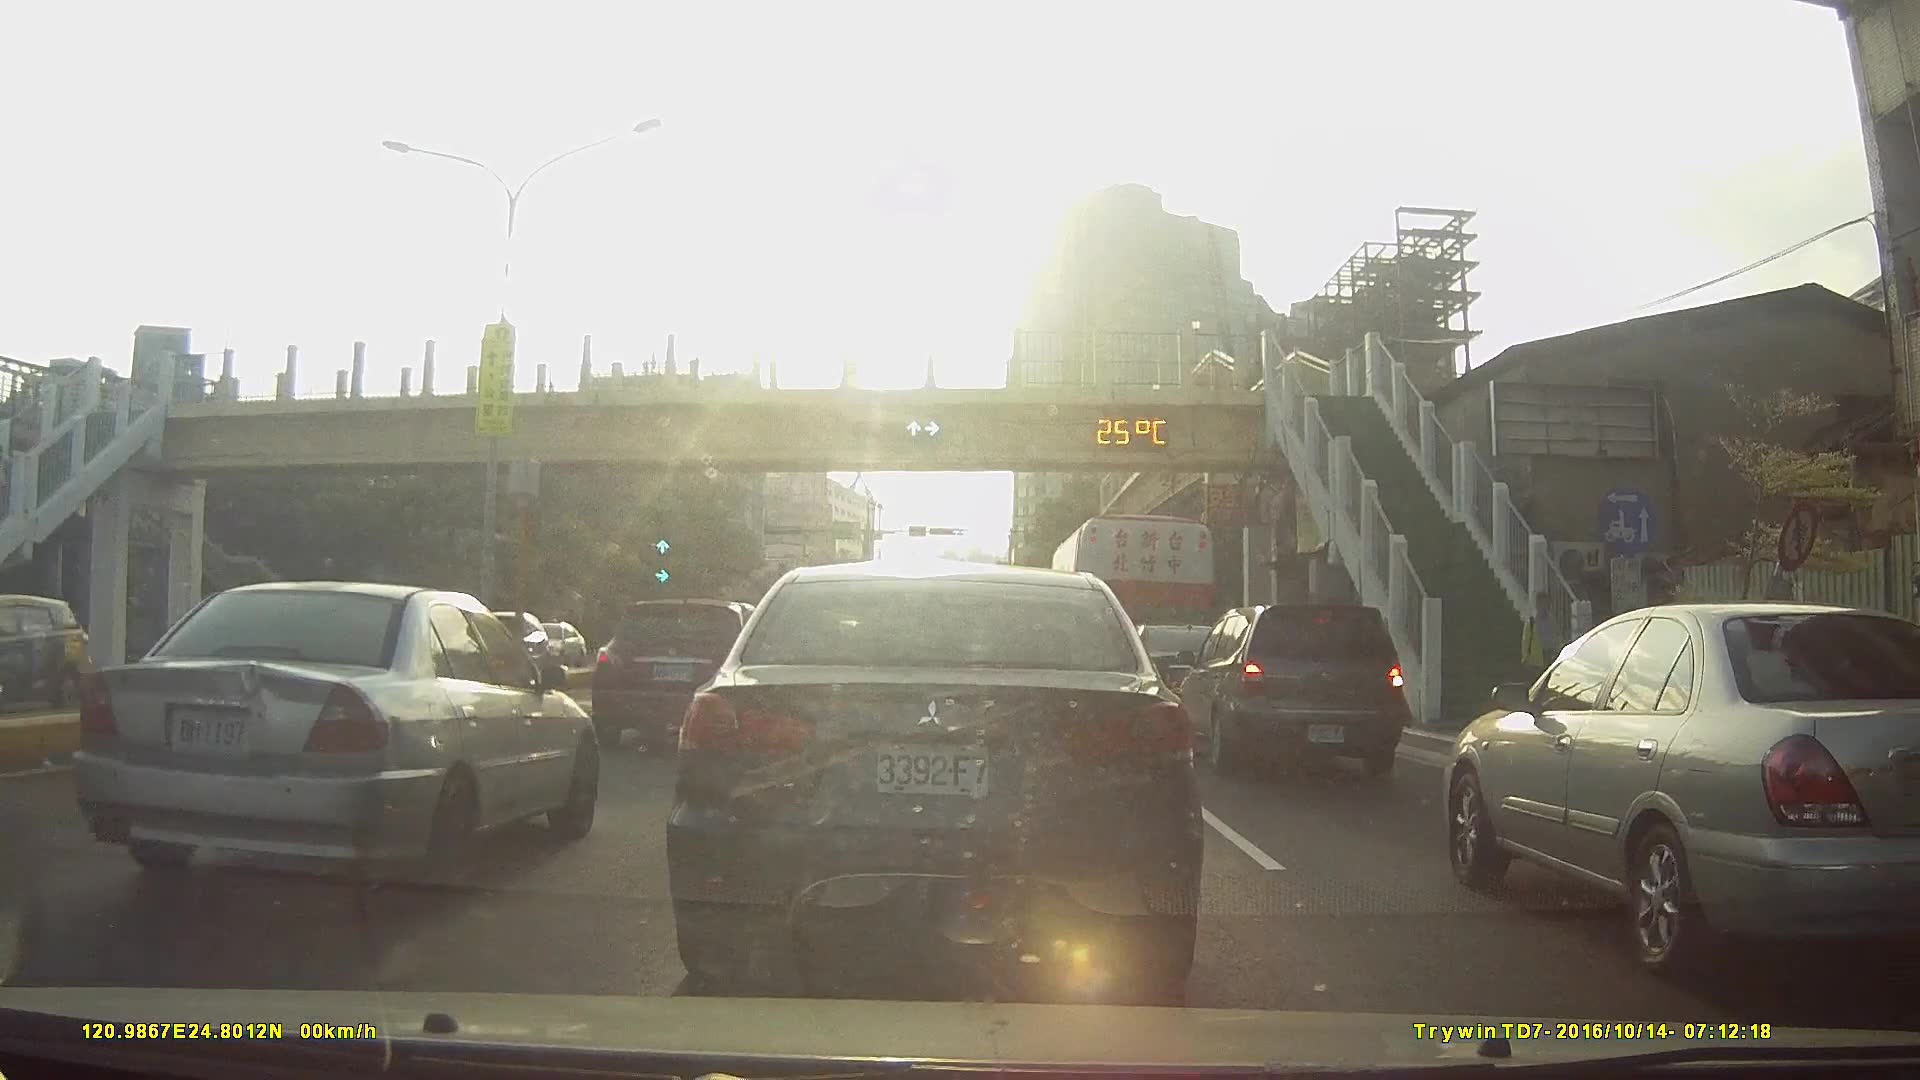pedestrian: (1524, 592, 1571, 709)
vehicle: (669, 562, 1200, 994), (1438, 599, 1920, 972), (95, 580, 608, 888), (1172, 603, 1419, 777), (590, 601, 780, 749), (1098, 615, 1247, 732), (1, 594, 107, 713), (1, 591, 78, 728), (432, 609, 556, 681), (517, 621, 591, 670)
